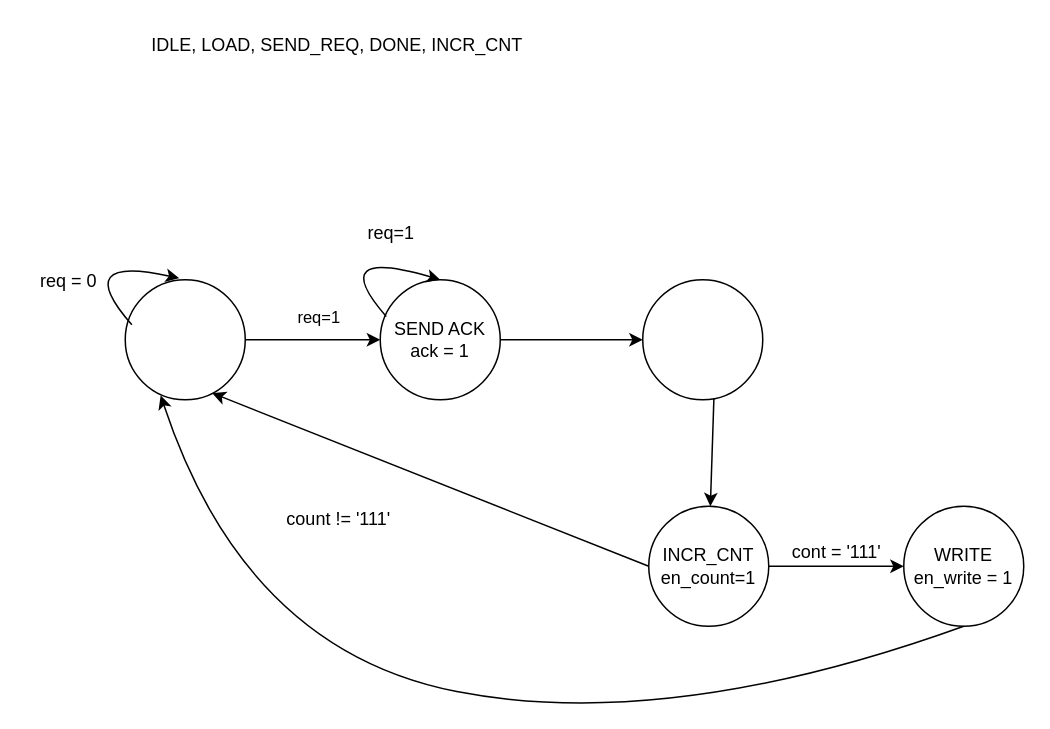
Image size: 1050x729. Some labels were removed from this diagram. Here are the shapes that lost their labels. From the top down, the centre of each, then its label:
At (x=184, y=339): "idle".
At (x=702, y=339): "DONE ack = 0 en_acc = 1".
